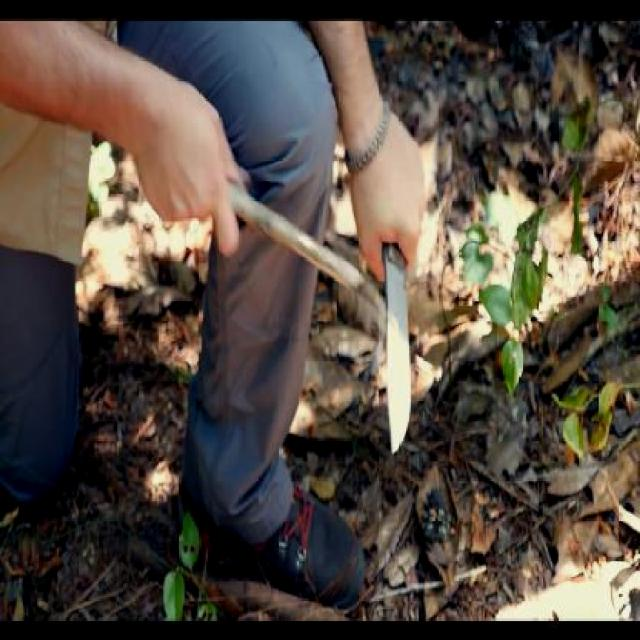knife: (355, 186, 431, 462)
